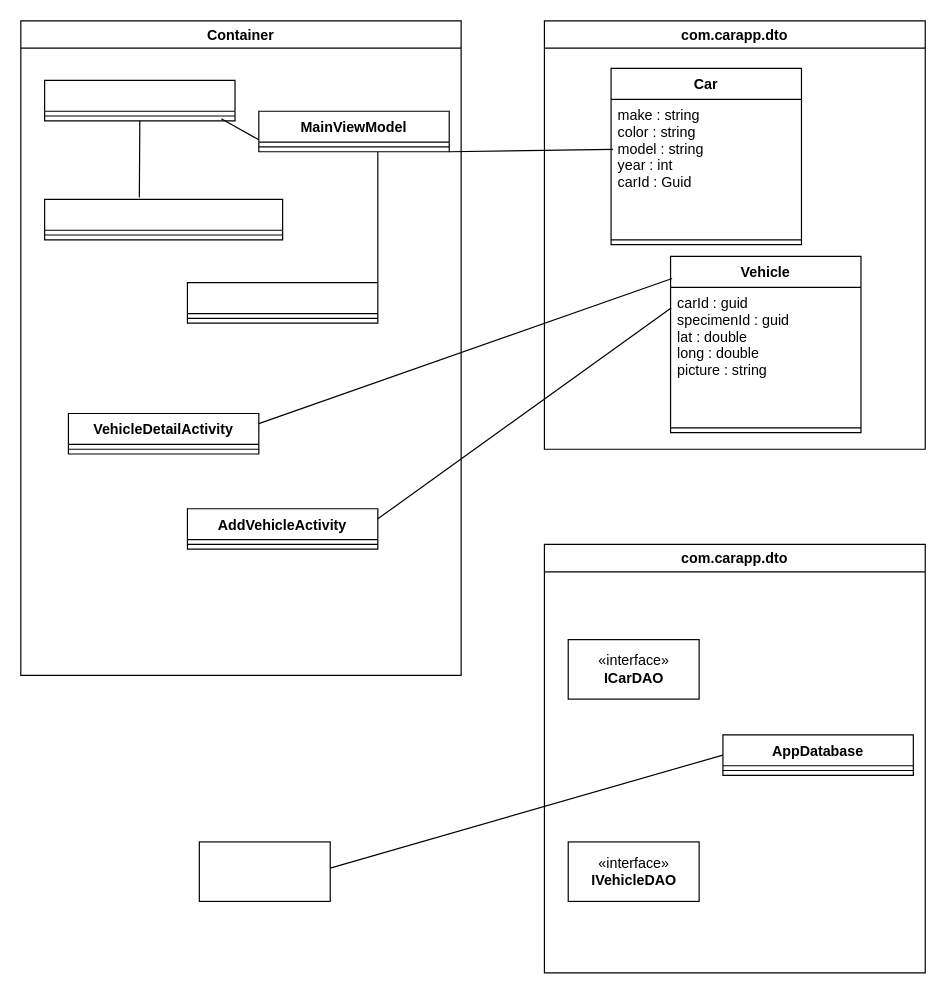
The diagram is 946 pixels wide and 994 high, and some of its shapes have lost their labels. Each missing label, with the centre of its shape:
"ContextAwareViewModel" goes at (x=163, y=219).
"MainActivity" goes at (x=139, y=100).
"RetroClientInstance" goes at (x=282, y=302).
"RoomDatabase" goes at (x=264, y=871).
